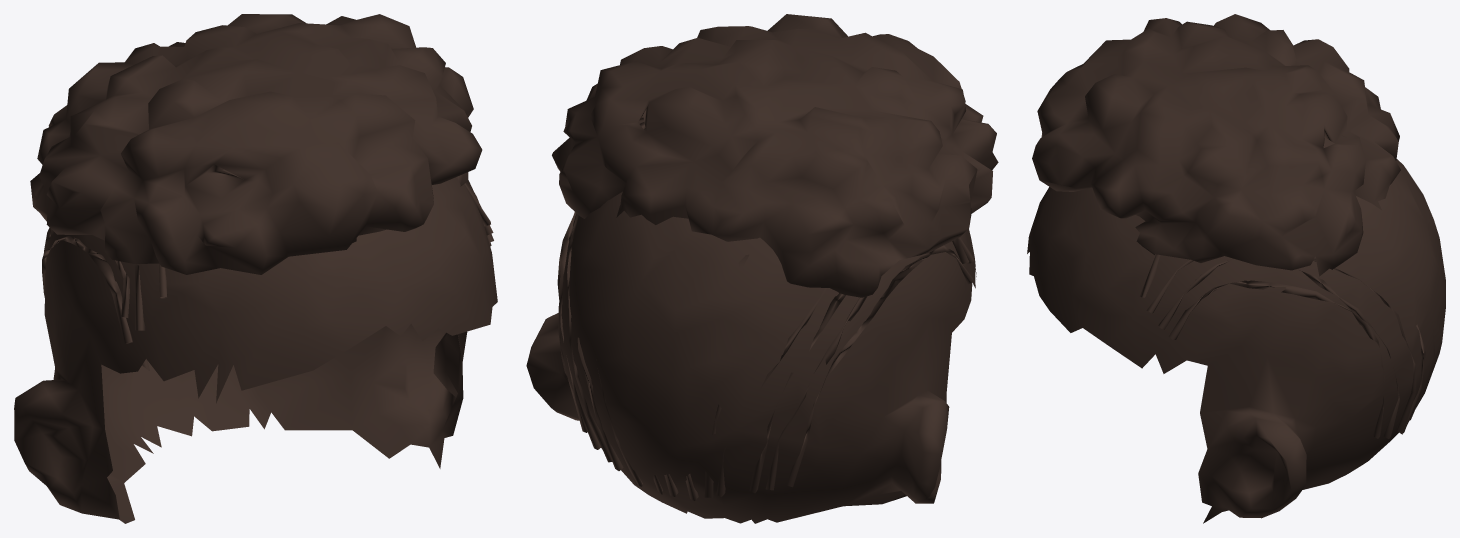
Rendered from curls.glb.
3 views of the same model, side by side, from view 1: azimuth 30°, elevation 25°; view 2: azimuth 150°, elevation 25°; view 3: azimuth 270°, elevation 25° (orthographic). The views are drawn at different scales.
Visible parts, largest first — view 1: HairScalp, Hair, HairPulledRootStrands; view 2: HairScalp, Hair, HairPulledRootStrands; view 3: HairScalp, Hair, HairPulledRootStrands.
Part boxes in pixels (left/top/right/bottom): HairScalp: left=14, top=169, right=497, bottom=523; Hair: left=30, top=14, right=482, bottom=274; HairPulledRootStrands: left=42, top=179, right=493, bottom=370; HairScalp: left=526, top=128, right=976, bottom=523; Hair: left=552, top=14, right=998, bottom=297; HairPulledRootStrands: left=557, top=122, right=974, bottom=500; HairScalp: left=1027, top=137, right=1445, bottom=523; Hair: left=1032, top=14, right=1400, bottom=276; HairPulledRootStrands: left=1139, top=254, right=1434, bottom=438.
Size of the model in its own units: 0.4716 by 0.455 by 0.4392.
